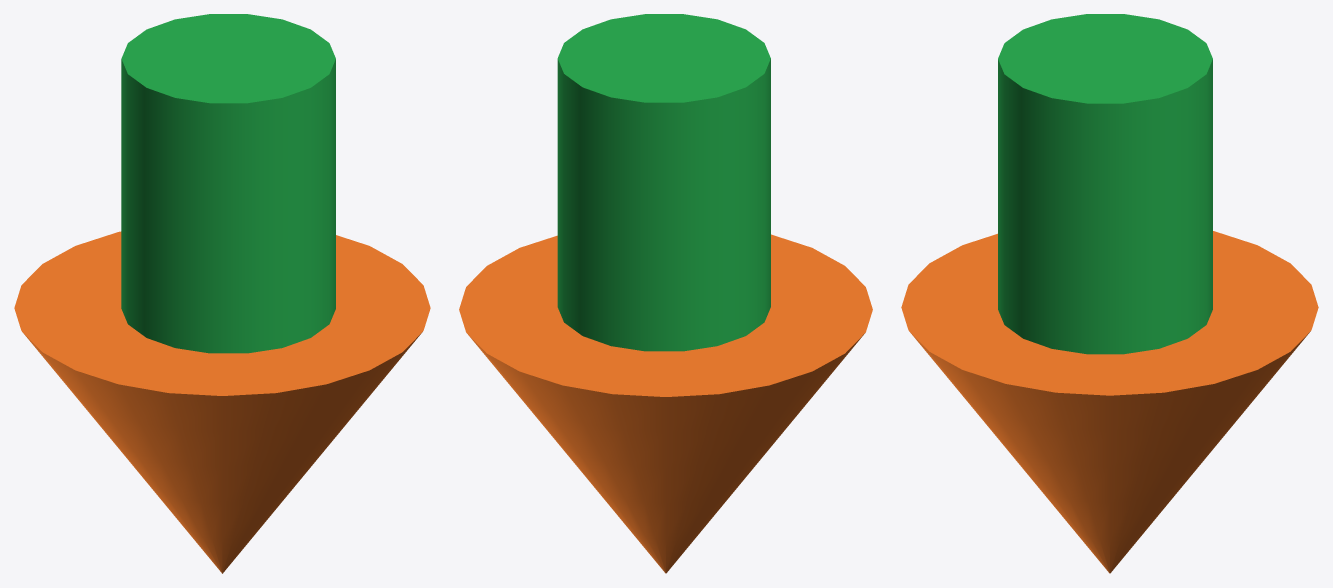
File: Arrow.FBX
3 views of the same model, side by side, from view 1: azimuth 30°, elevation 25°; view 2: azimuth 150°, elevation 25°; view 3: azimuth 270°, elevation 25° (orthographic).
Parts seen in each view (by area): view 1: Cylinder001; view 2: Cylinder001; view 3: Cylinder001.
Part boxes in pixels (<box>): Cylinder001: <box>14,14,430,573</box>; Cylinder001: <box>459,14,872,573</box>; Cylinder001: <box>901,14,1318,573</box>.
Bounding box in the file's own units: 3620 × 4950 × 3620.
